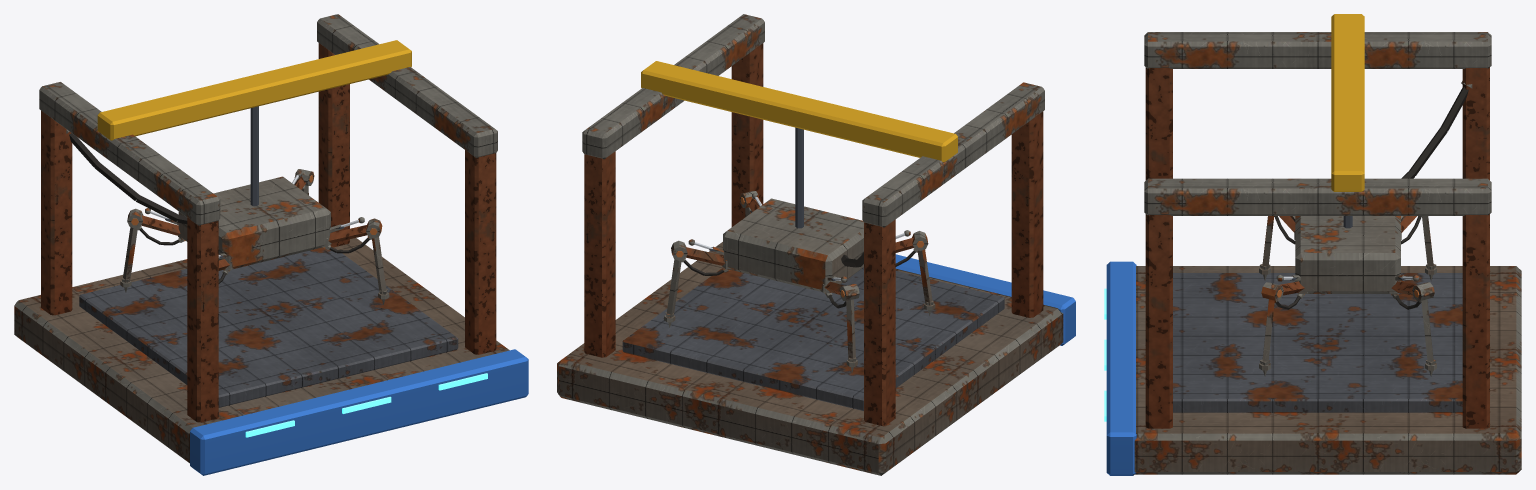
Rendered from centresocles.glb.
The picture shows the model from 3 angles, left to right: view 1: azimuth 30°, elevation 25°; view 2: azimuth 150°, elevation 25°; view 3: azimuth 270°, elevation 25°; orthographic projection. The views are drawn at different scales.
Visible parts, largest first — view 1: centresocles; view 2: centresocles; view 3: centresocles.
Part boxes in pixels (<box>): centresocles: <box>14,14,528,475</box>; centresocles: <box>557,14,1075,475</box>; centresocles: <box>1104,14,1521,475</box>.
Bounding box in the file's own units: 2.72 × 2.18 × 2.76.
10 materials, 3 textured.
